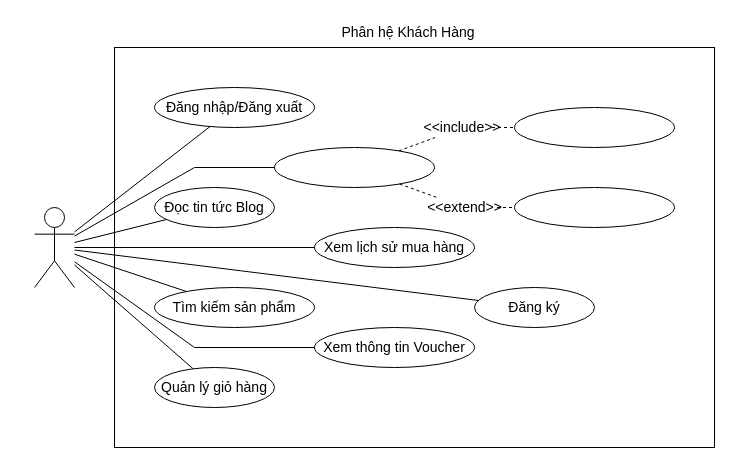
This 732x465 diagram has some shape labels left out. The shapes that lost their labels are listed below. From the top down, each one's centre as x and y in pixels, then its label:
At [594,127]: "Nhập đầy đủ thông tin".
At [354,167]: "Đặt hàng trực tuyến".
At [594,207]: "Áp dụng mã giảm giá".
At [54,247]: "Khách hàng".
